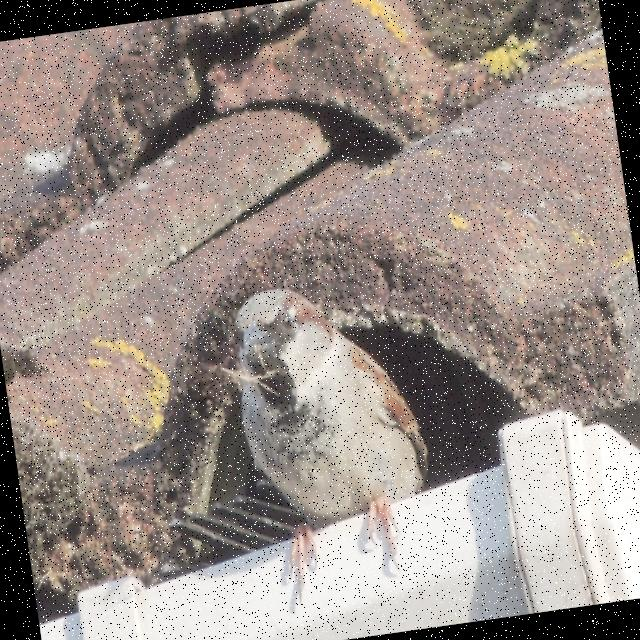bird: (214, 271, 448, 608)
